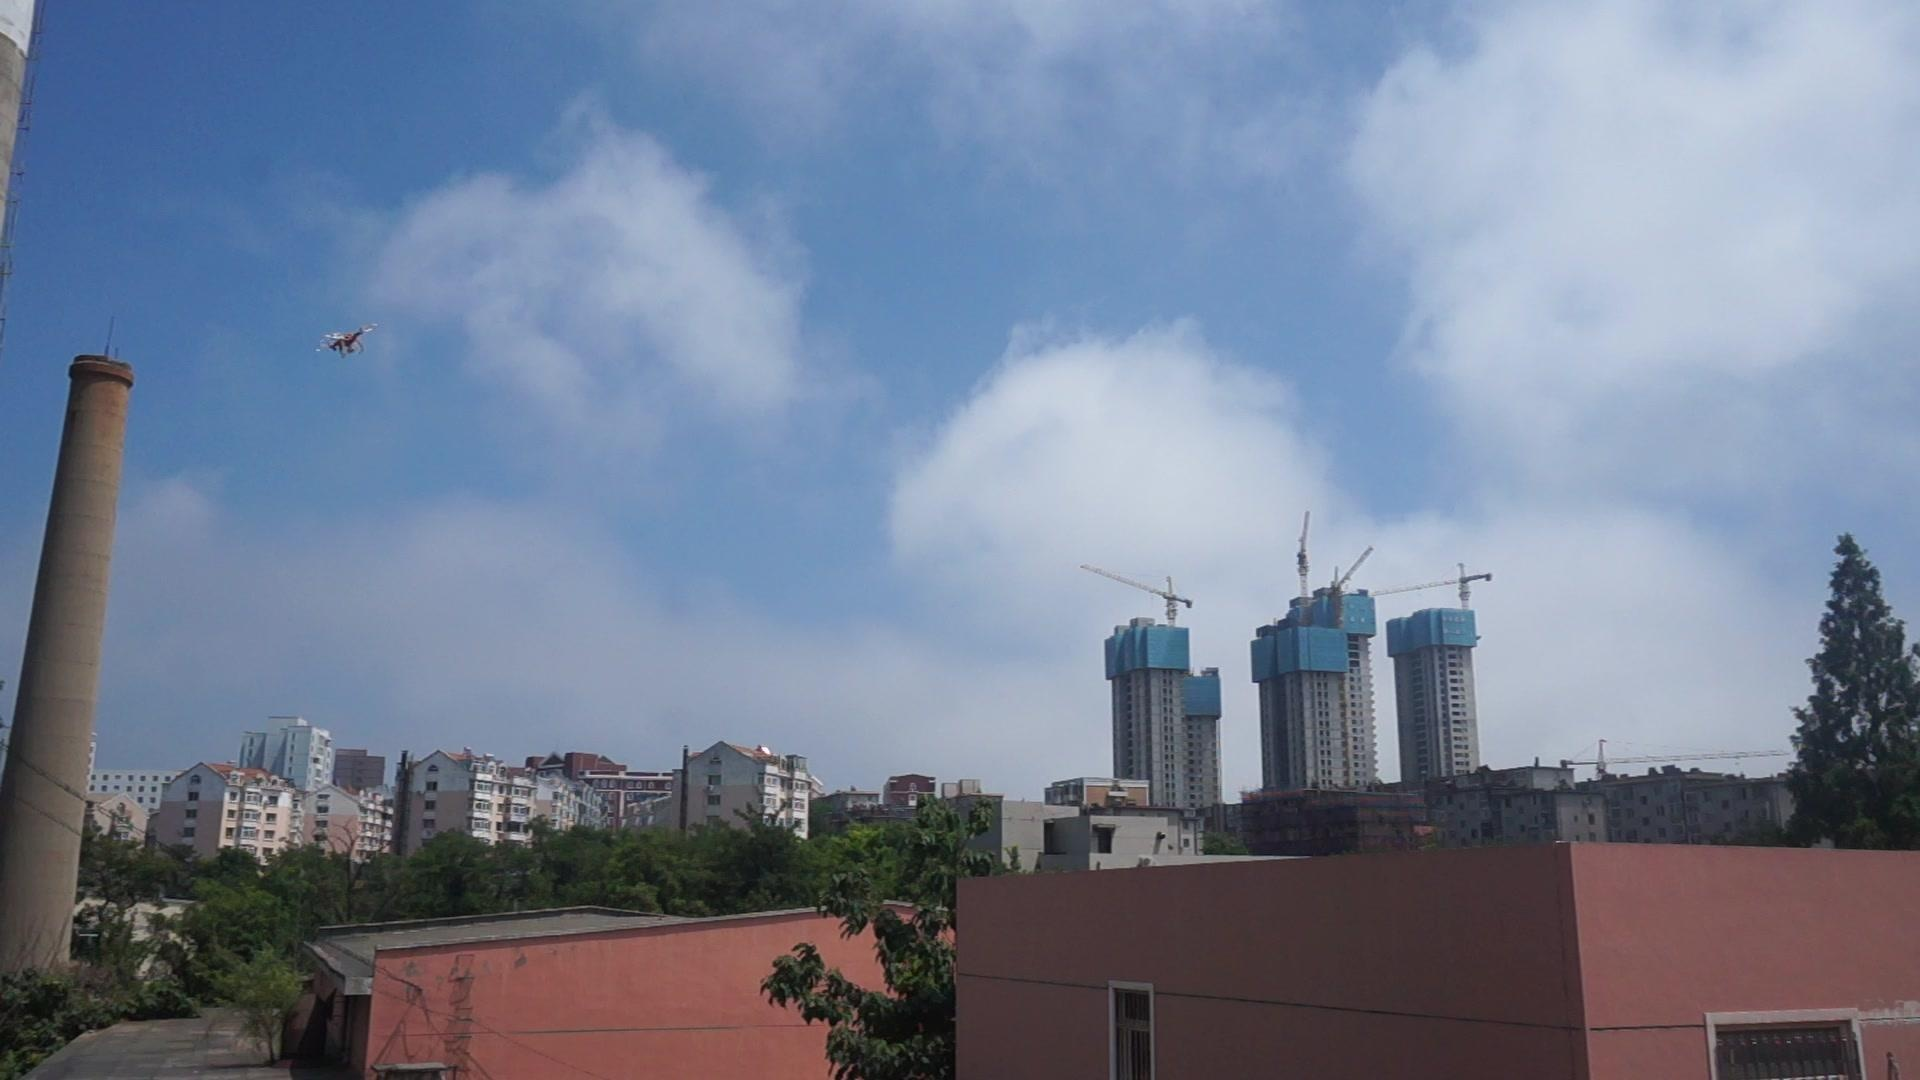UAV: (315, 320, 380, 359)
